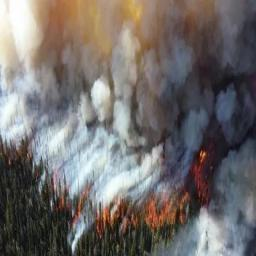Heavy smoke: (4, 3, 256, 233)
Medium fire: (42, 136, 237, 226)
